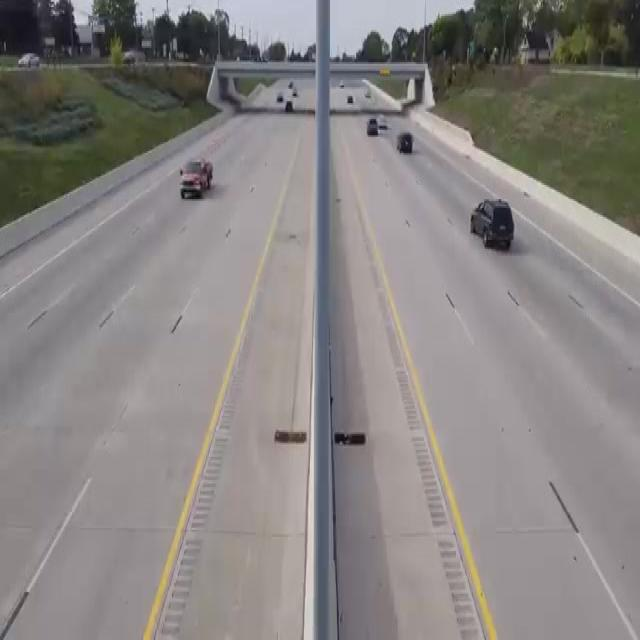car: (464, 187, 526, 258), (15, 49, 46, 72), (394, 131, 418, 155), (366, 114, 381, 140), (380, 107, 390, 140), (345, 91, 357, 111), (284, 98, 296, 113)
van: (173, 148, 225, 219)
